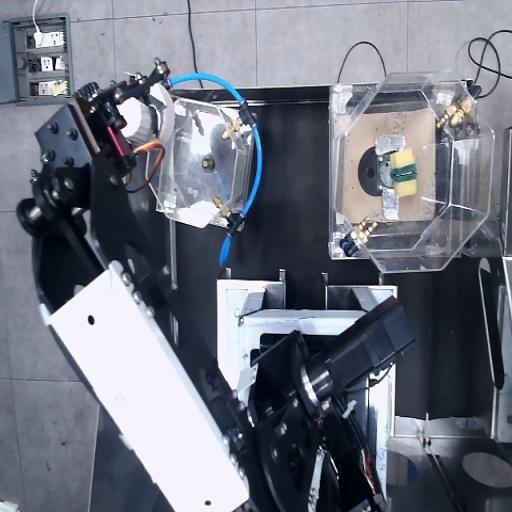cup in rinse station: (118, 84, 174, 146)
